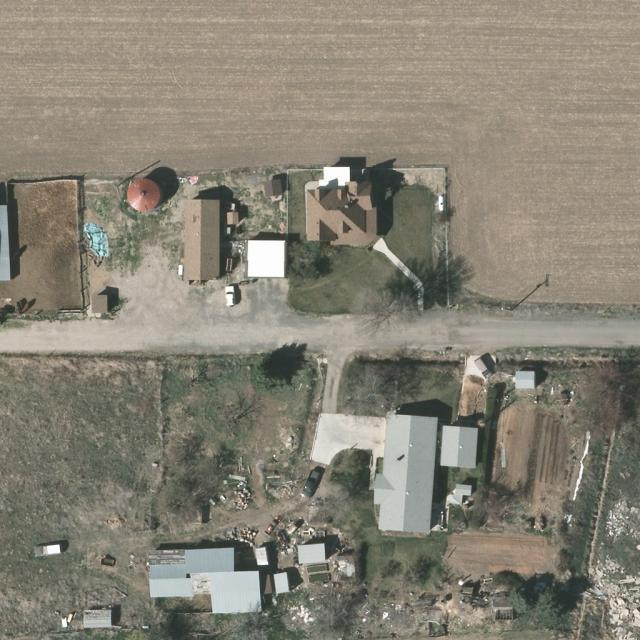vehicle: (300, 470, 322, 502), (473, 358, 494, 379), (32, 544, 62, 558), (224, 285, 236, 308)
